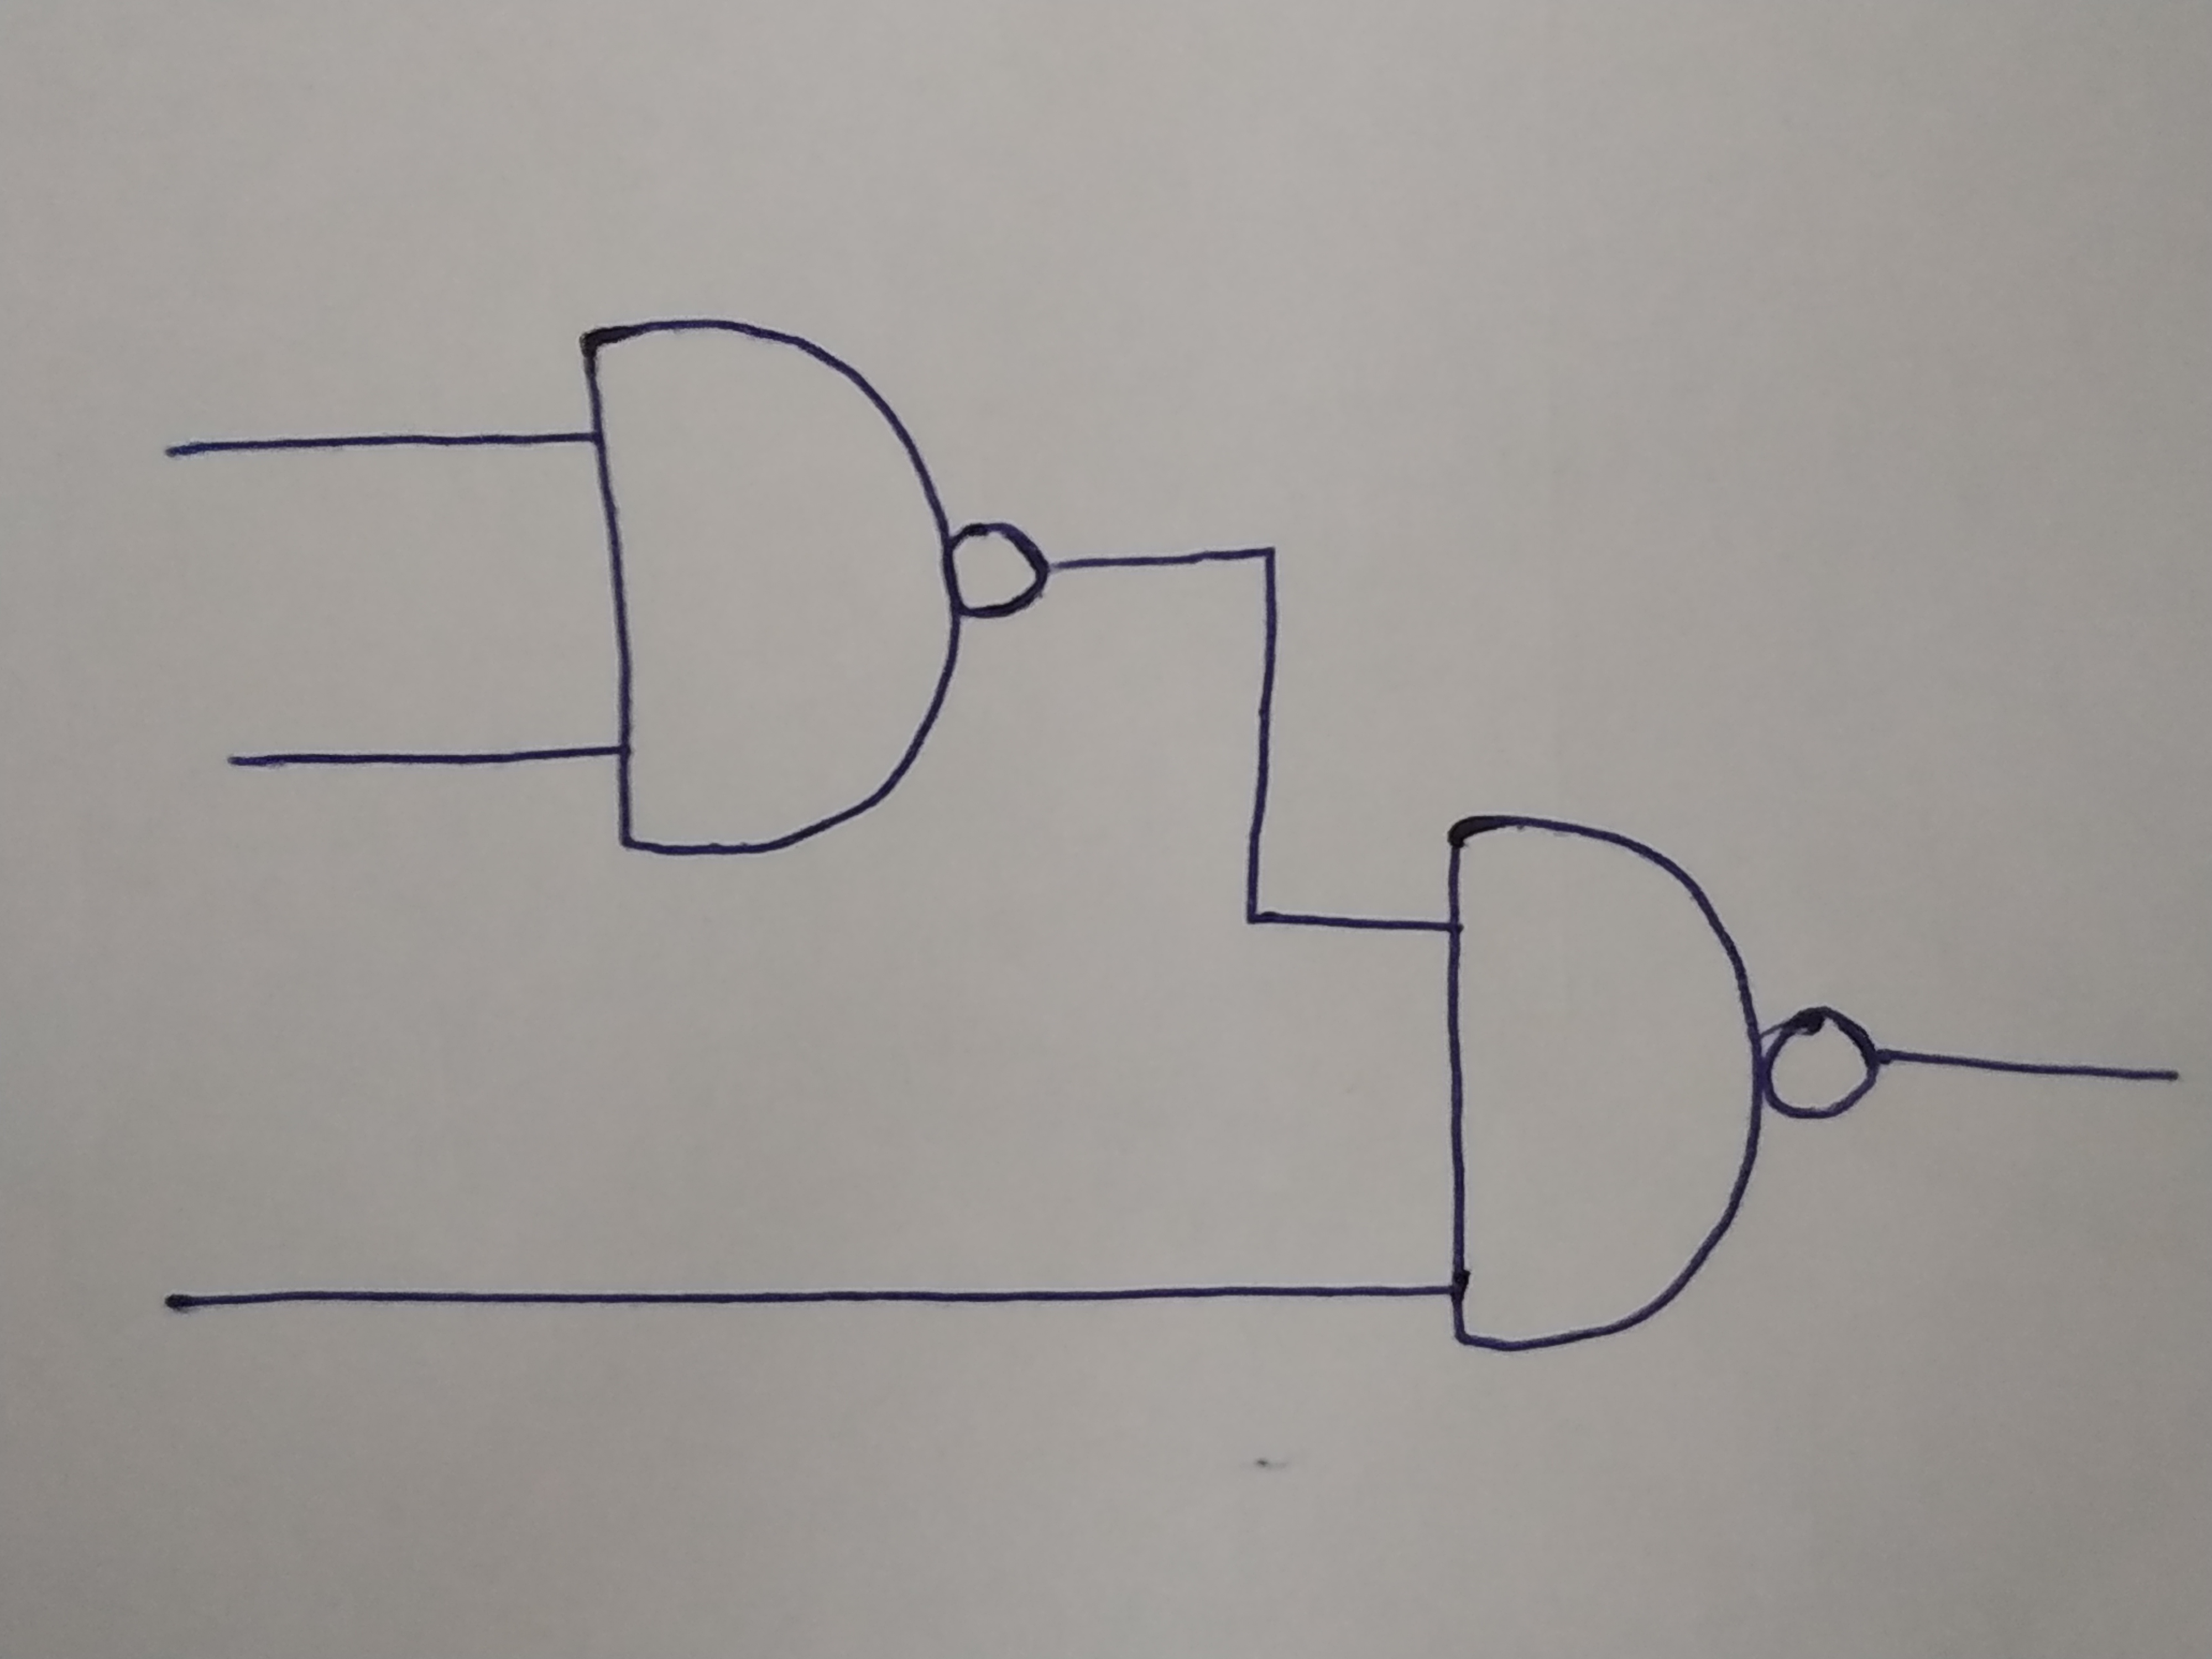and: (564, 324, 953, 850), (1439, 817, 1754, 1347)
not: (1763, 1002, 1881, 1115), (953, 521, 1043, 617)
